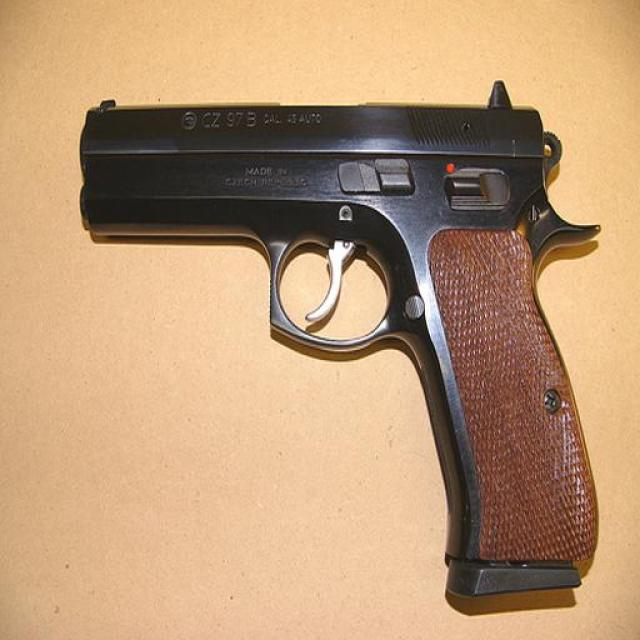pistol: (77, 80, 600, 594)
